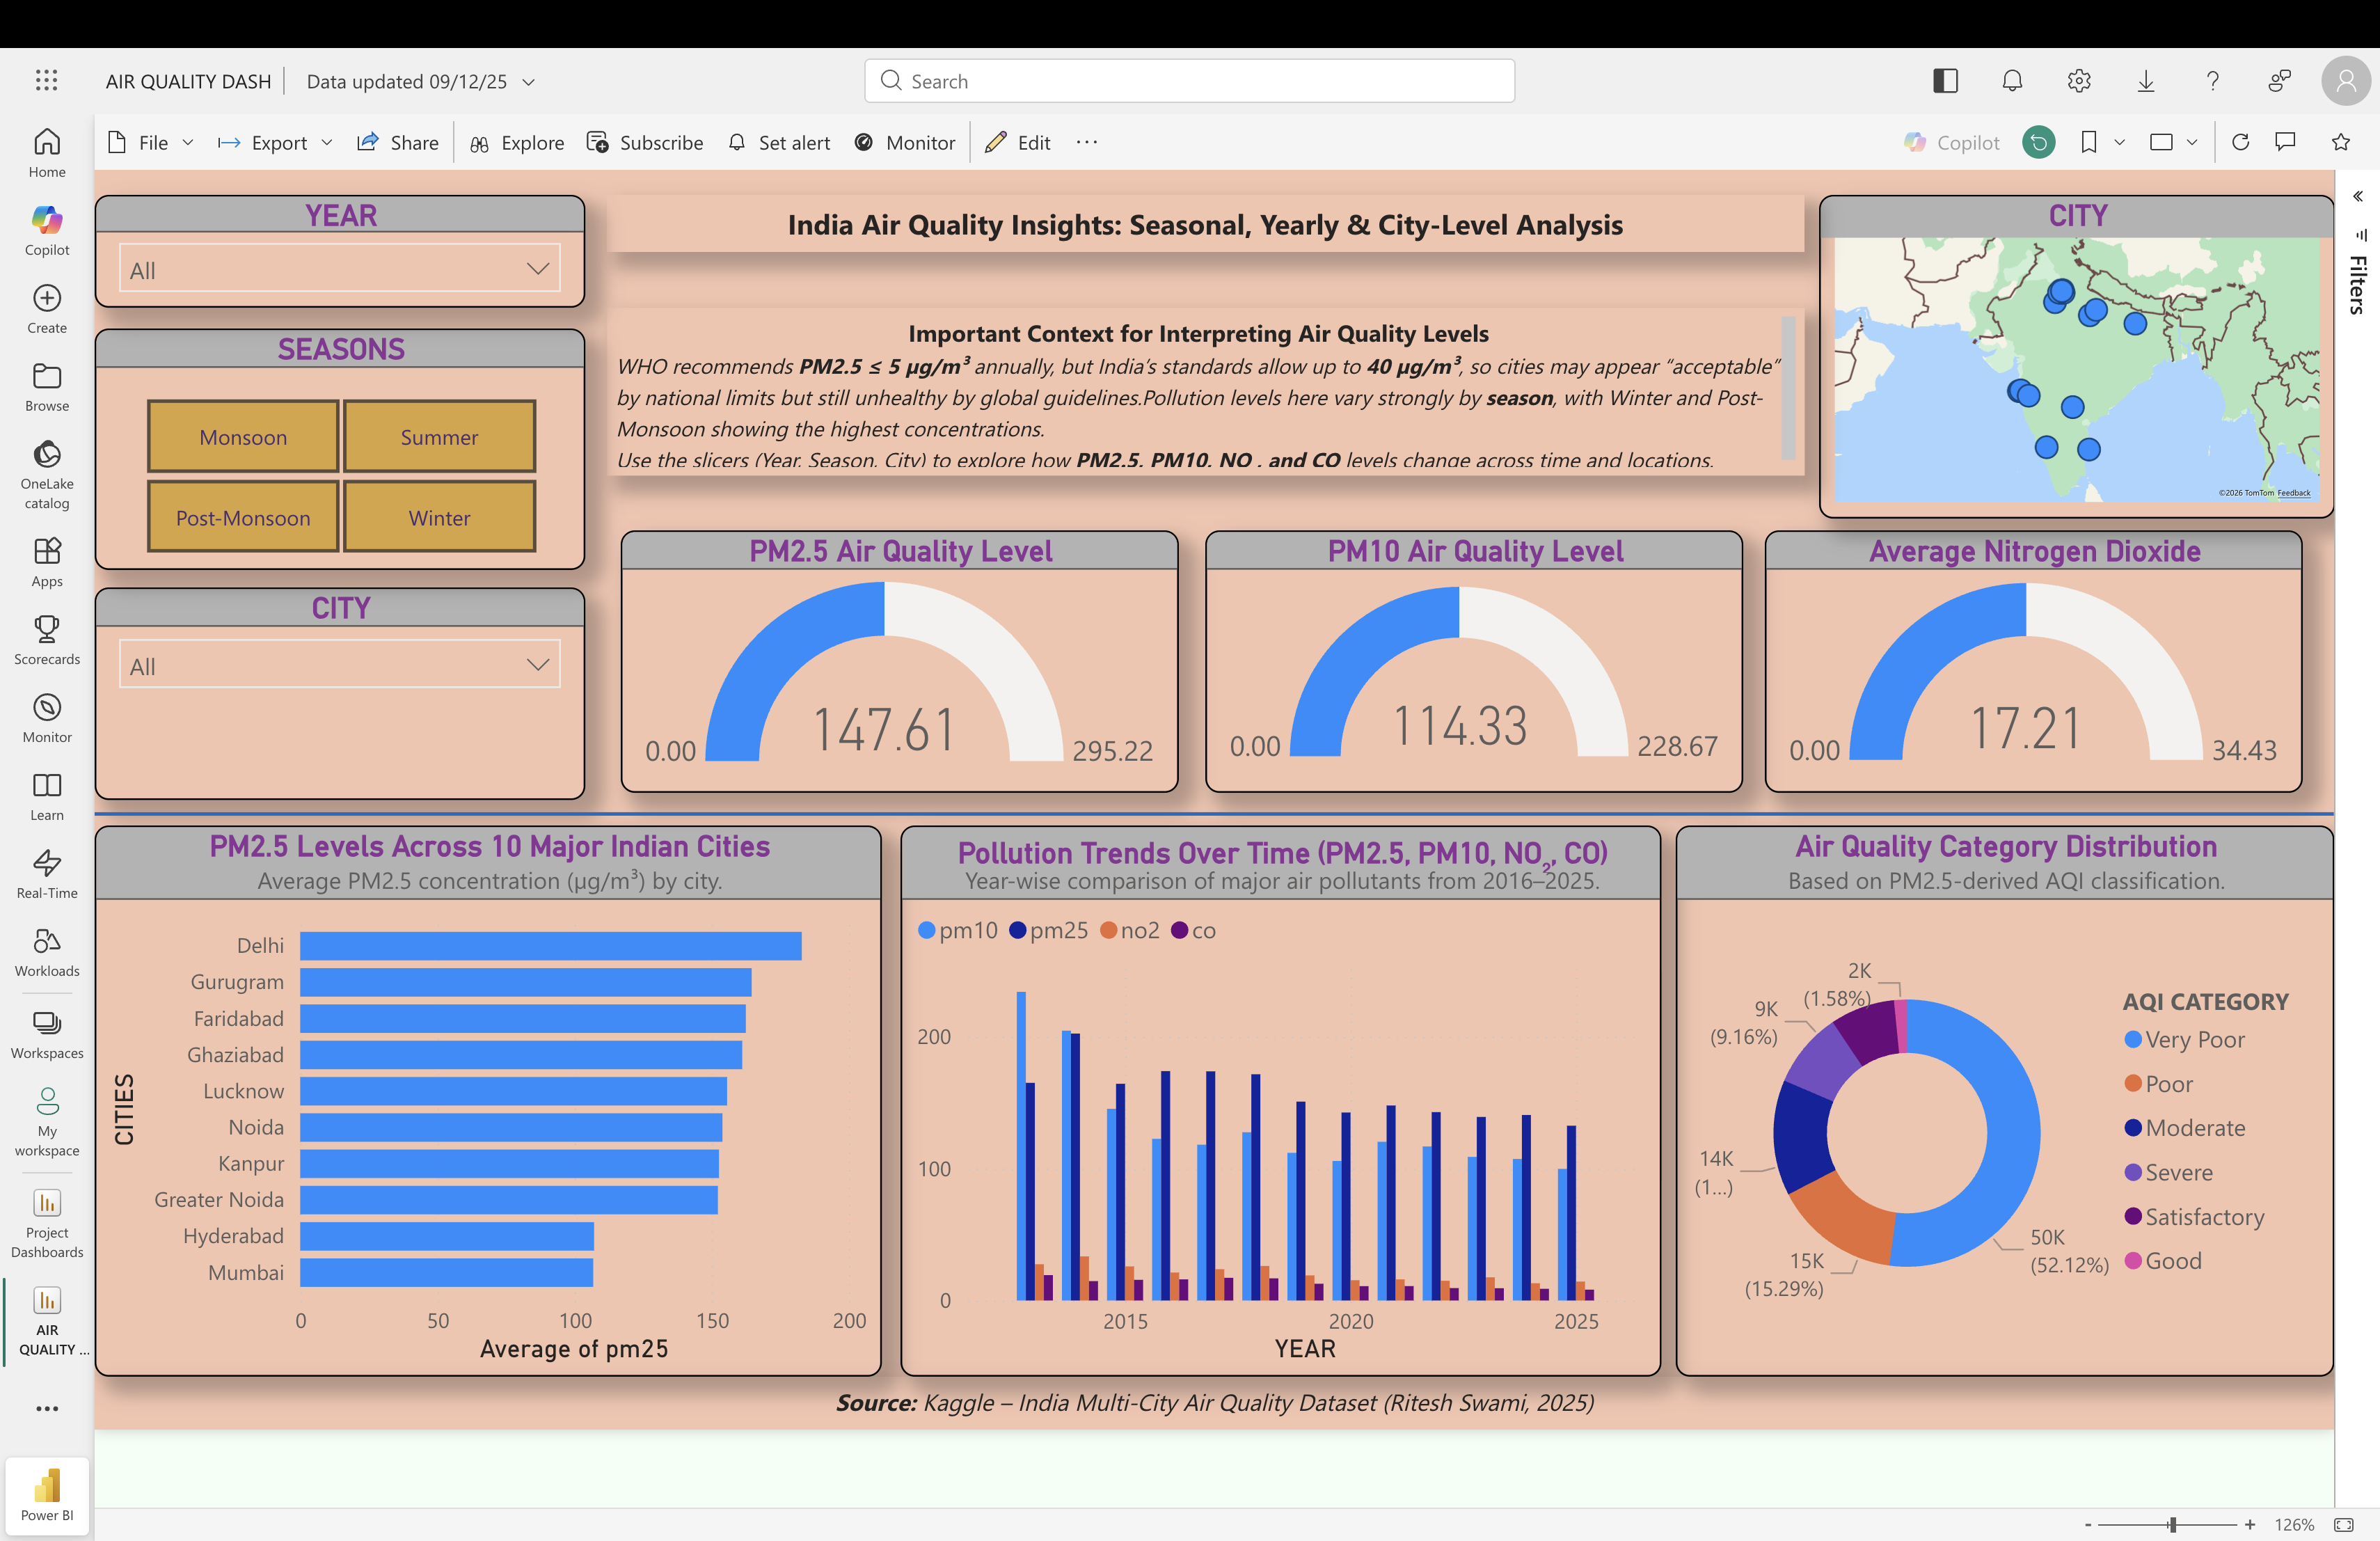

What the dashboard file says about the page in this screenshot:
{"tool":"powerbi","page":{"name":"Page 1","canvas":[1280,720],"ordinal":0},"visuals":[{"type":"slicer","title":"CITY","fields":{"Values":["india_air_quality_FINAL_CLEAN.city"]},"box":[0,238.9,280.3,121.4],"z":0},{"type":"slicer","title":"SEASONS","fields":{"Values":["india_air_quality_FINAL_CLEAN.season"]},"box":[0,90.4,280.3,138.2],"z":1000},{"type":"slicer","title":"YEAR","fields":{"Values":["india_air_quality_FINAL_CLEAN.year"]},"box":[0,14.2,280.3,64.6],"z":2000},{"type":"clusteredBarChart","title":"PM2.5 Levels Across 10 Major Indian Cities","fields":{"Category":["india_air_quality_FINAL_CLEAN.city"],"Y":["Avg(india_air_quality_FINAL_CLEAN.pm25)"]},"box":[0,374.8,450.1,314.8],"z":3000},{"type":"gauge","title":"PM2.5 Air Quality Level","fields":{"Y":["Avg(india_air_quality_FINAL_CLEAN.pm25)"]},"box":[300.9,205.9,318.8,149.8],"z":4000},{"type":"gauge","title":"PM10 Air Quality Level","fields":{"Y":["Avg(india_air_quality_FINAL_CLEAN.pm10)"]},"box":[634.9,205.9,307.5,149.8],"z":5000},{"type":"lineClusteredColumnComboChart","title":"Pollution Trends Over Time (PM2.5, PM10, NO₂, CO)","fields":{"Category":["india_air_quality_FINAL_CLEAN.year"],"Y":["Avg(india_air_quality_FINAL_CLEAN.pm10)","Avg(india_air_quality_FINAL_CLEAN.pm25)","Avg(india_air_quality_FINAL_CLEAN.no2)","Avg(india_air_quality_FINAL_CLEAN.co)"]},"box":[460.6,374.8,434.9,314.8],"z":6000},{"type":"gauge","title":"Average  Nitrogen Dioxide","fields":{"Y":["Avg(india_air_quality_FINAL_CLEAN.no2)"]},"box":[954.3,205.9,307.5,149.8],"z":7000},{"type":"azureMap","title":"CITY","fields":{"Category":["india_air_quality_FINAL_CLEAN.city"]},"box":[985.3,14.5,295,184.8],"z":8000},{"type":"donutChart","title":"Air Quality Category Distribution","fields":{"Category":["india_air_quality_FINAL_CLEAN.aqi_category"],"Y":["india_air_quality_FINAL_CLEAN.Total Observations"]},"box":[903.4,374.5,376.5,315.1],"z":9000},{"type":"shape","box":[0,362.3,1279.9,12.3],"z":10000},{"type":"textbox","box":[0,689.4,1280,30.6],"z":11000},{"type":"textbox","box":[292.5,78.8,684.5,96.2],"z":12000},{"type":"textbox","box":[292.5,14.2,684.5,32.3],"z":13000}]}

Visuals, with their boxes in screenshot pixels (x1, y1, x2, y2):
"CITY" slicer: 81 578 576 792
"SEASONS" slicer: 81 315 576 560
"YEAR" slicer: 81 180 576 294
"PM2.5 Levels Across 10 Major Indian Cities" clusteredBarChart: 81 818 877 1375
"PM2.5 Air Quality Level" gauge: 613 519 1177 784
"PM10 Air Quality Level" gauge: 1203 519 1747 784
"Pollution Trends Over Time (PM2.5, PM10, NO₂, CO)" lineClusteredColumnComboChart: 895 818 1665 1375
"Average  Nitrogen Dioxide" gauge: 1768 519 2312 784
"CITY" azureMap: 1823 181 2345 507
"Air Quality Category Distribution" donutChart: 1679 817 2345 1375
shape: 81 796 2345 818
textbox: 81 1375 2345 1429
textbox: 598 294 1809 464
textbox: 598 180 1809 237
